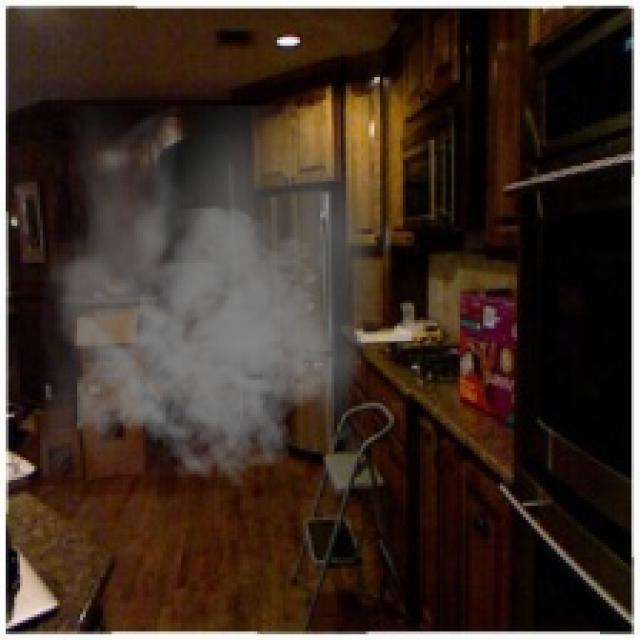Smoke: (40, 106, 383, 488)
